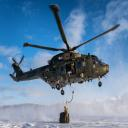helicopter: (8, 8, 125, 105)
